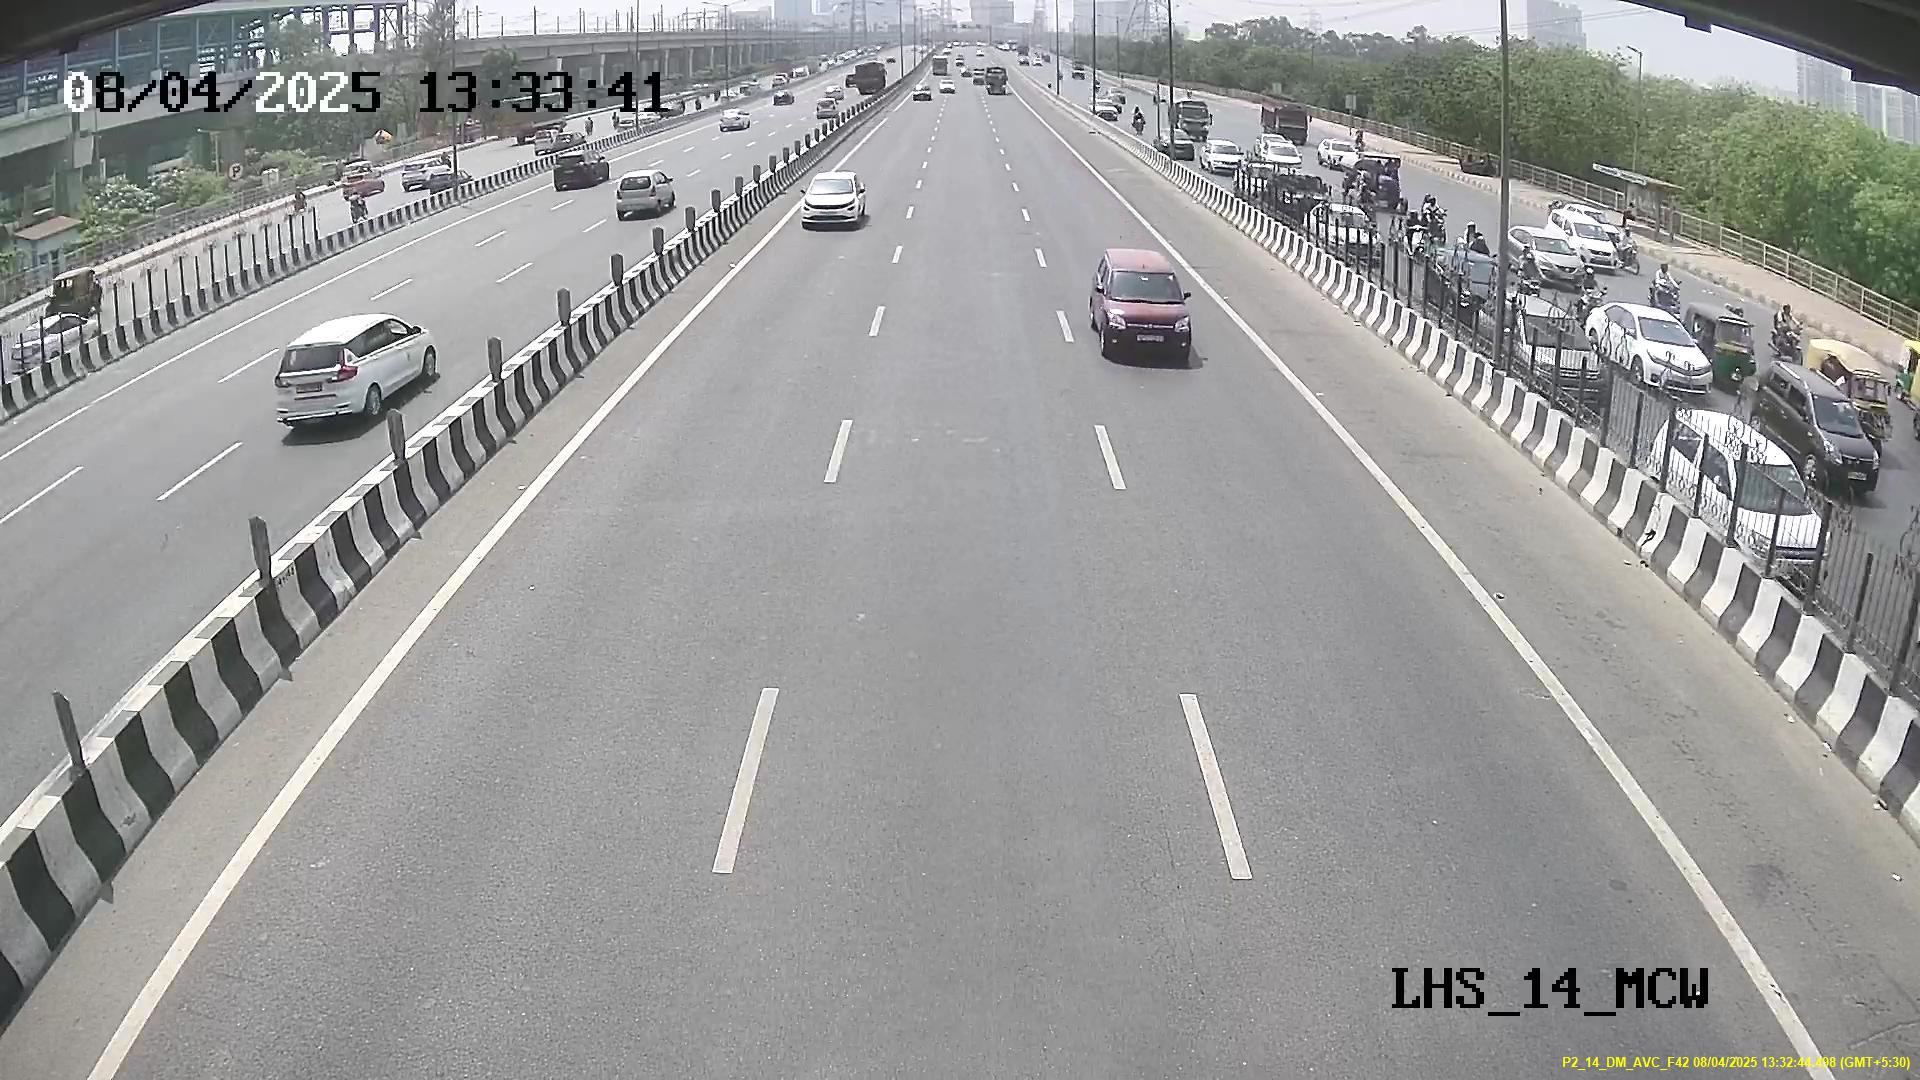car: (1088, 255, 1195, 361), (800, 166, 862, 231)
